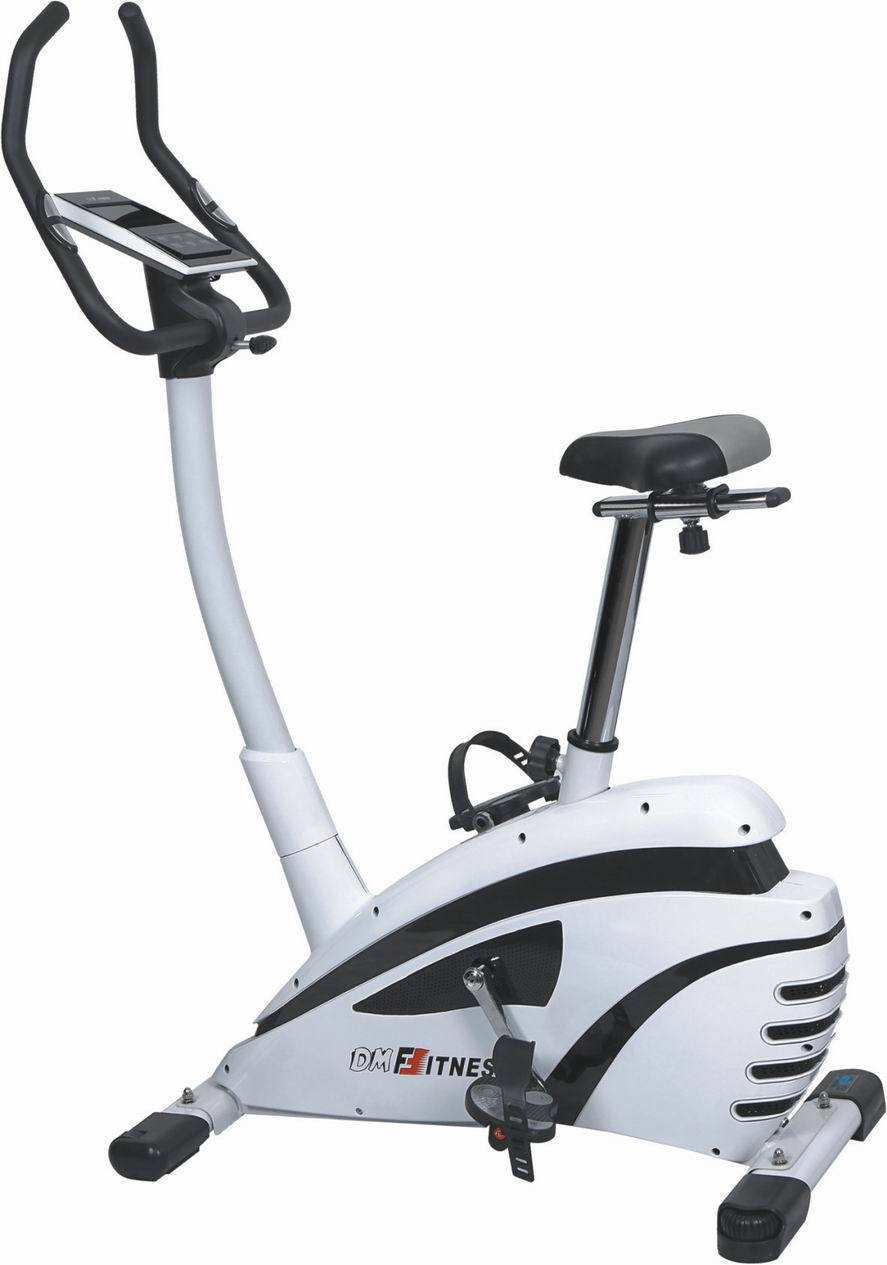gym_bike: (1, 1, 876, 1254)
